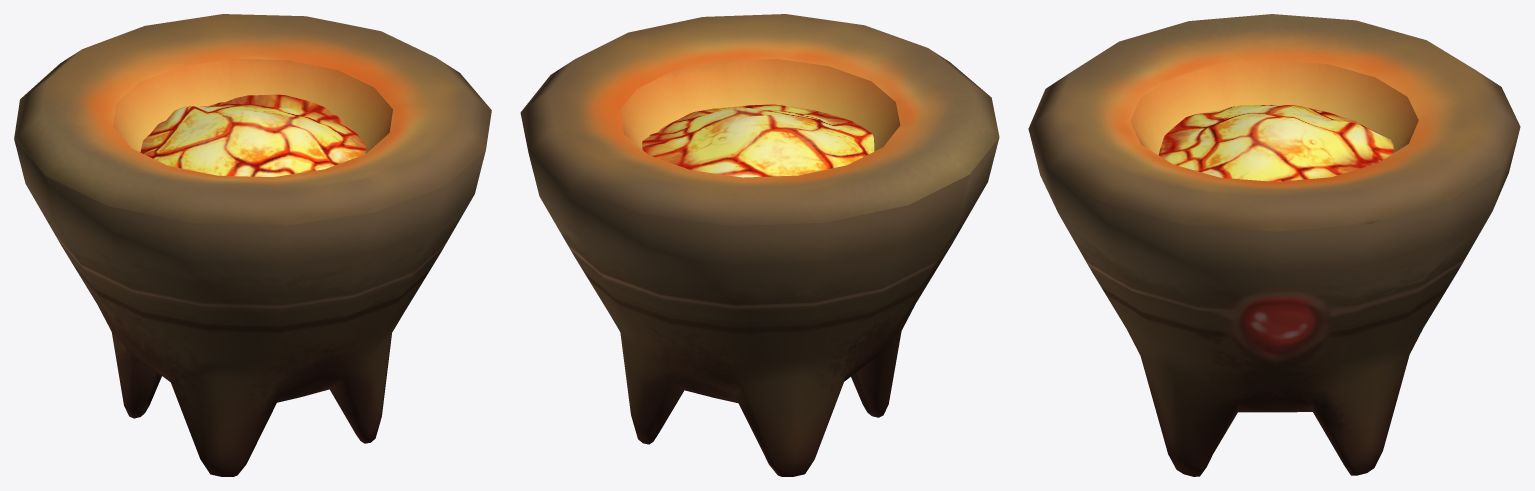
Rendered from Brazeirofbx.fbx.
3 renders of one model, left to right at view 1: azimuth 30°, elevation 25°; view 2: azimuth 150°, elevation 25°; view 3: azimuth 270°, elevation 25°, orthographic. The views are drawn at different scales.
Parts seen in each view (by area): view 1: CA_OPE_Props_Caverna_Brazier, CA_OPE_Props_Caverna_Embers; view 2: CA_OPE_Props_Caverna_Brazier, CA_OPE_Props_Caverna_Embers; view 3: CA_OPE_Props_Caverna_Brazier, CA_OPE_Props_Caverna_Embers.
Part boxes in pixels (bbox=[...]): CA_OPE_Props_Caverna_Brazier: bbox=[14, 14, 491, 476]; CA_OPE_Props_Caverna_Embers: bbox=[140, 94, 366, 176]; CA_OPE_Props_Caverna_Brazier: bbox=[520, 14, 999, 476]; CA_OPE_Props_Caverna_Embers: bbox=[642, 104, 874, 177]; CA_OPE_Props_Caverna_Brazier: bbox=[1028, 14, 1520, 476]; CA_OPE_Props_Caverna_Embers: bbox=[1158, 104, 1393, 181].
Bounding box in the file's own units: 5.18 × 3.83 × 5.18.
